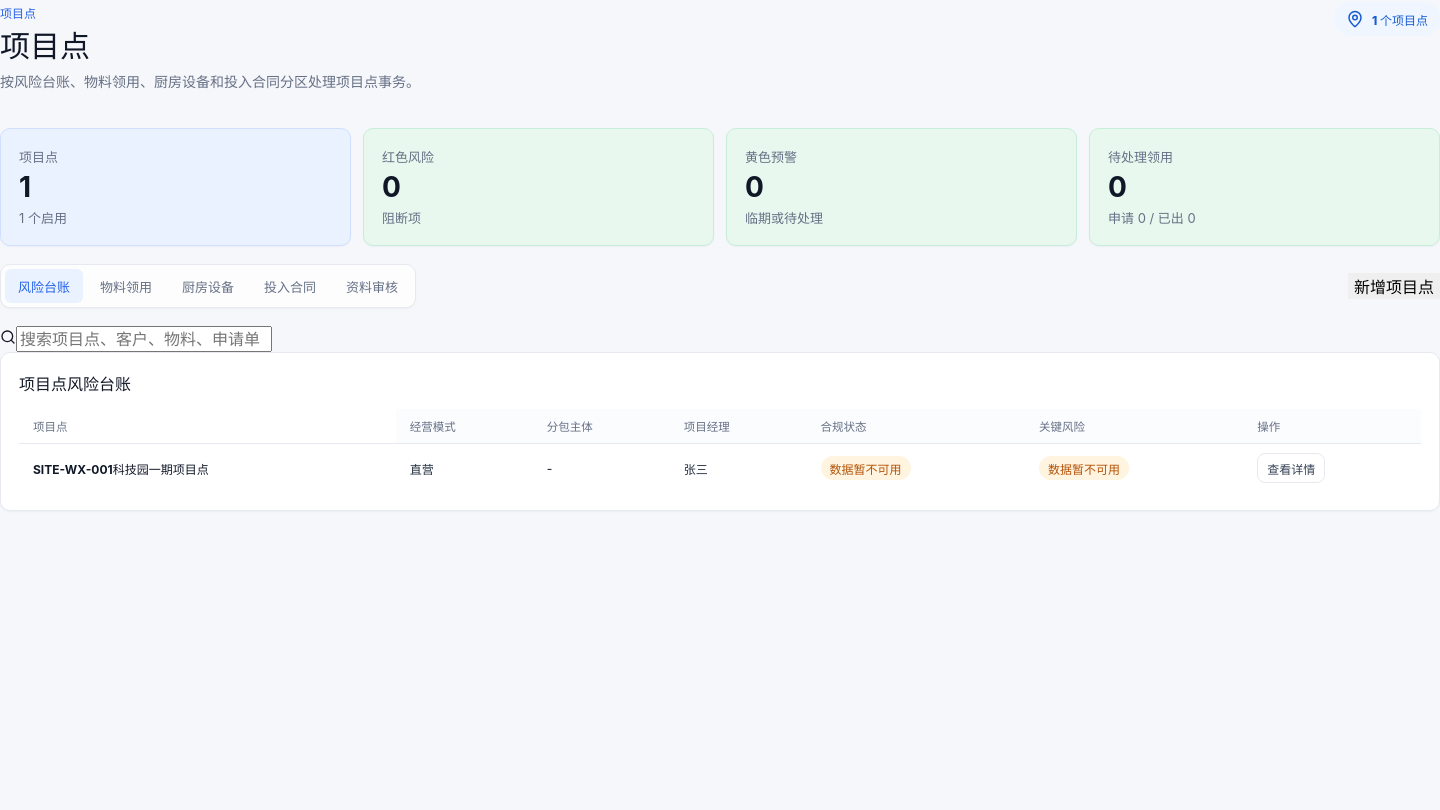
Test: Company ERP workspace components › shows compliance task queue in project-site detail overview
The image size is (1440, 810).
Click the text "SITE-WX-001" at coordinates (73, 470), box x1=33 y1=462 x2=113 y2=477
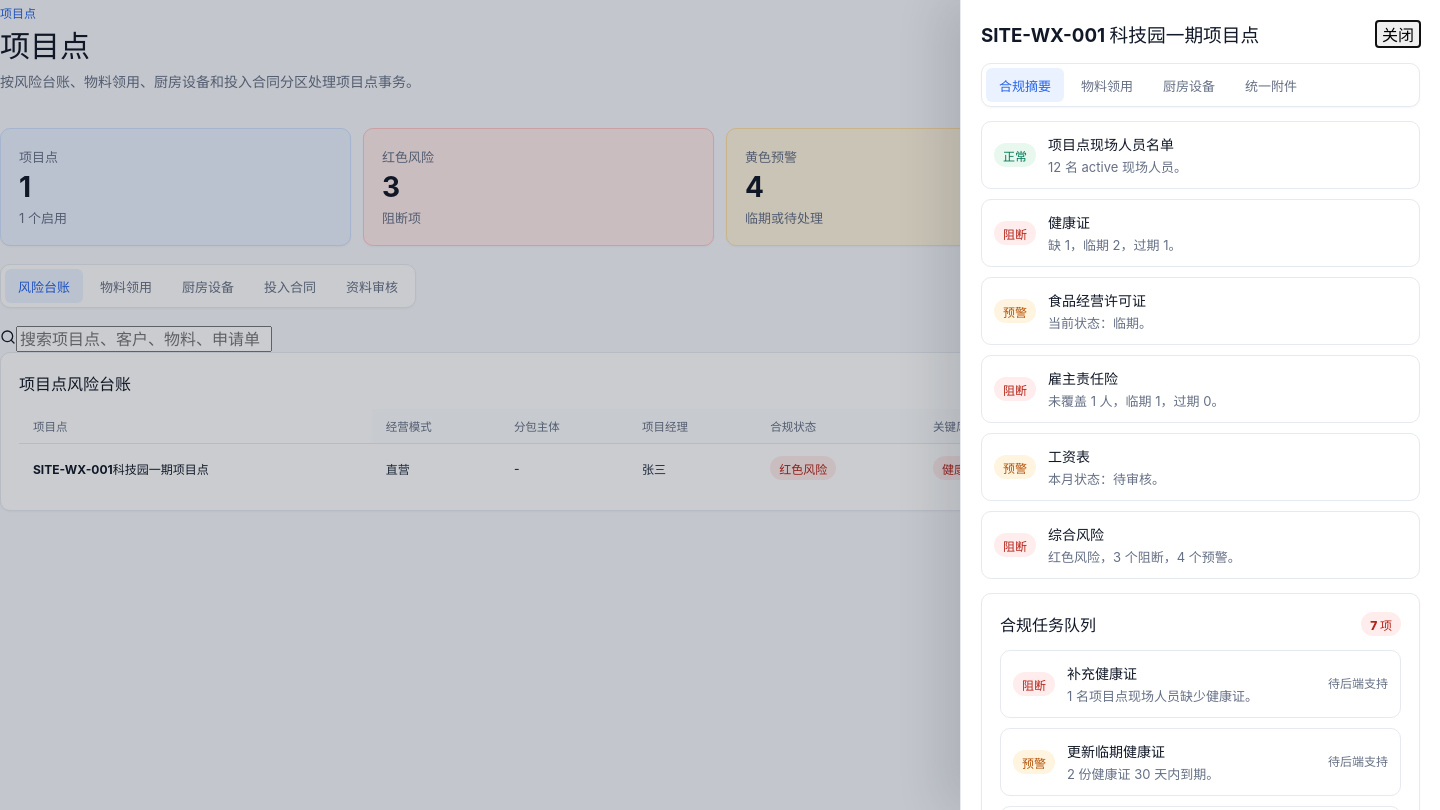
Result: the heading "合规任务队列" is shown at x1=1000 y1=612 x2=1096 y2=636
Result: the text "补充健康证" is shown at x1=1067 y1=665 x2=1137 y2=682
Result: the text "待后端支持" next to "1 名项目点现场人员缺少健康证。" is shown at x1=1328 y1=676 x2=1388 y2=691
